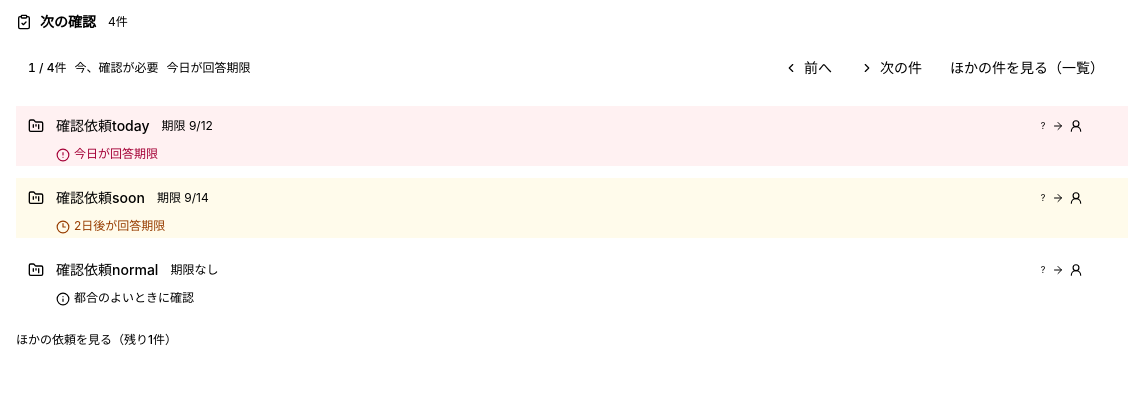
NeoReviewRequests › moves between unresolved requests without changing them and can show the whole round
This screenshot has width=1145, height=395.
Expected: the element named "確認案件の移動" shows "1 / 4件", [16,44,1128,92]
Expected: the element named "確認案件の移動" shows "今日が回答期限", [166,60,250,75]
Click the button "次の件" at {"x": 891, "y": 68}, box [848,52,934,84]
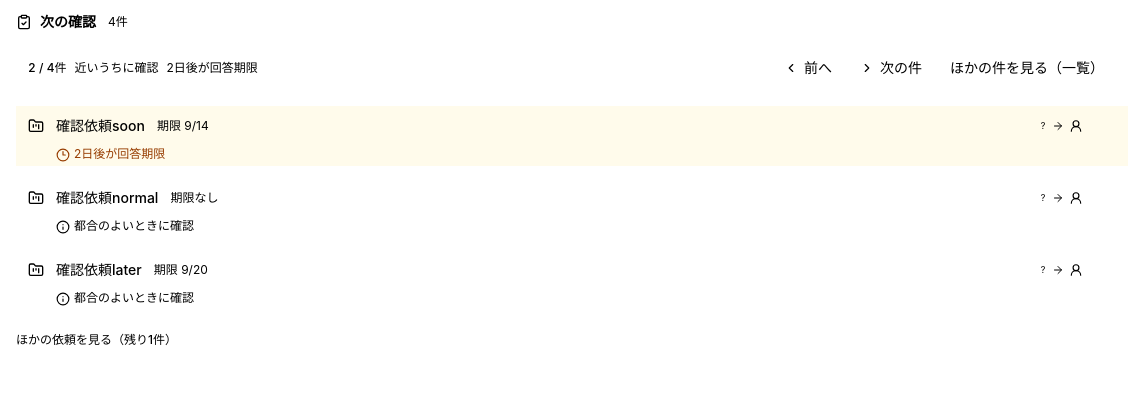
Now the element named "確認案件の移動" shows "2 / 4件", box [16,44,1128,92]
Click the button "前へ" at {"x": 808, "y": 68}, box [772,52,844,84]
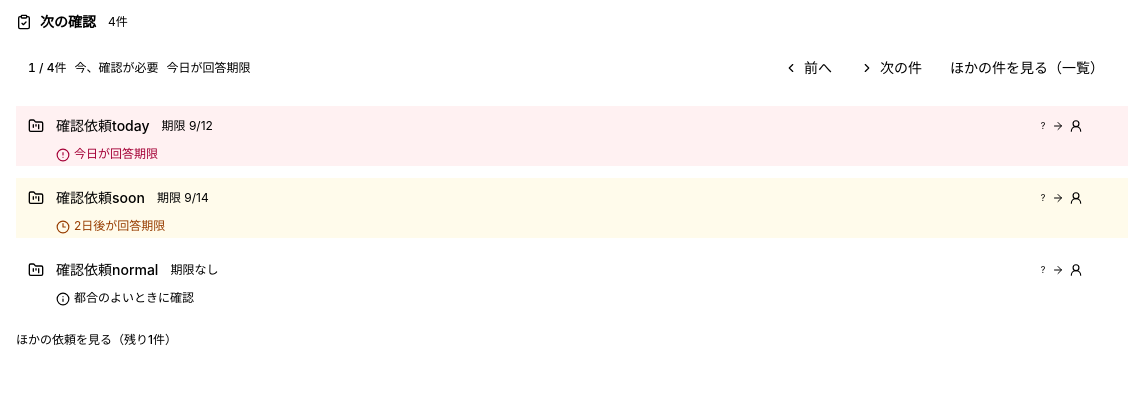
Now the element named "確認案件の移動" shows "1 / 4件", box [16,44,1128,92]
Click the button "ほかの件を見る（一覧）" at {"x": 1027, "y": 68}, box [938,52,1116,84]
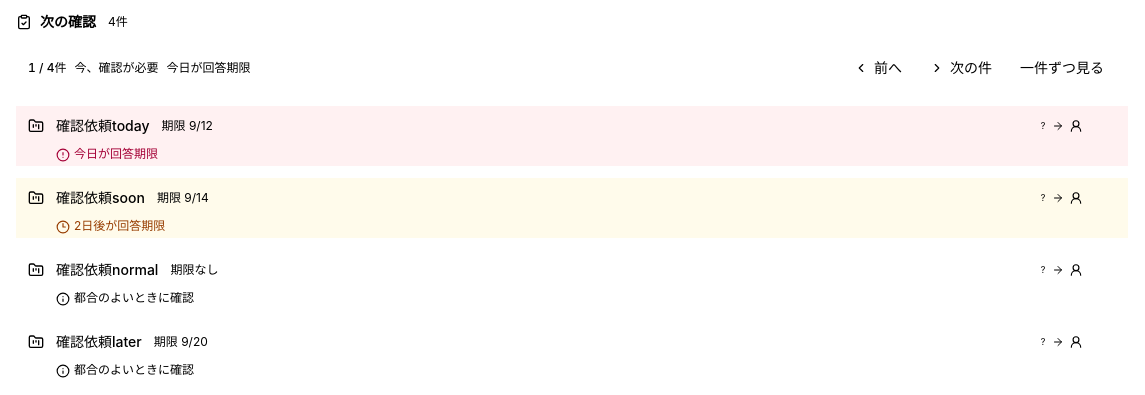
Now the number of links is 4, box [24,110,1120,162]; [24,182,1120,234]; [24,254,1120,306]; [24,326,1120,378]
